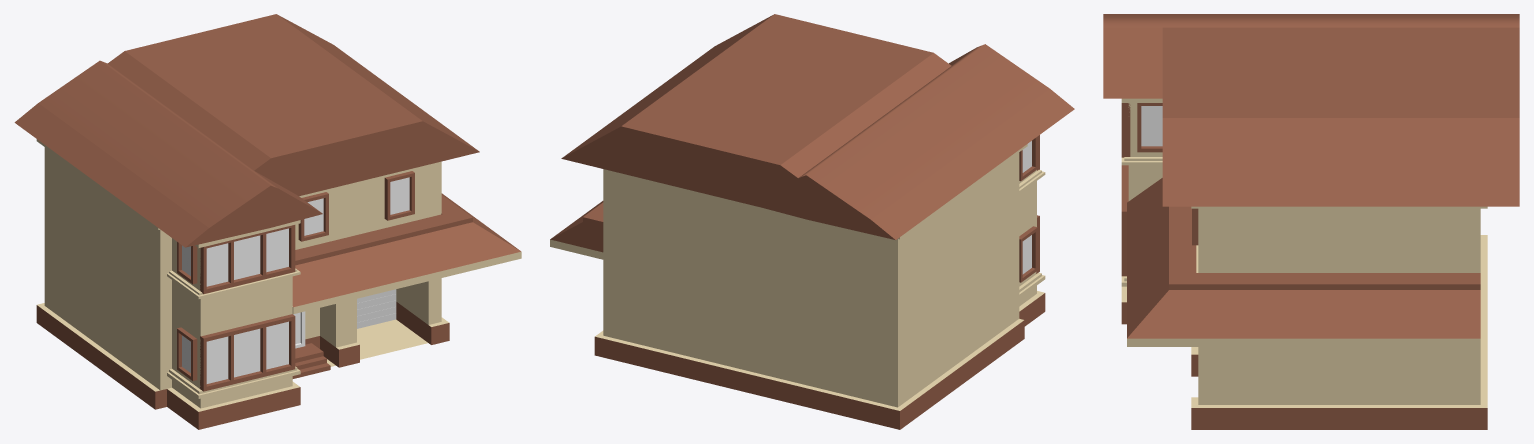
Rendered from House 4.fbx.
The picture shows the model from 3 angles, left to right: view 1: azimuth 30°, elevation 25°; view 2: azimuth 150°, elevation 25°; view 3: azimuth 270°, elevation 25°; orthographic projection. The views are drawn at different scales.
Parts seen in each view (by area): view 1: CartoonHouse; view 2: CartoonHouse; view 3: CartoonHouse.
Part boxes in pixels (box(x1,y1,x2,y2)): CartoonHouse: box(14, 14, 521, 429); CartoonHouse: box(550, 14, 1074, 429); CartoonHouse: box(1103, 14, 1519, 429).
Size of the model in its own units: 1833 by 1203 by 1568.
